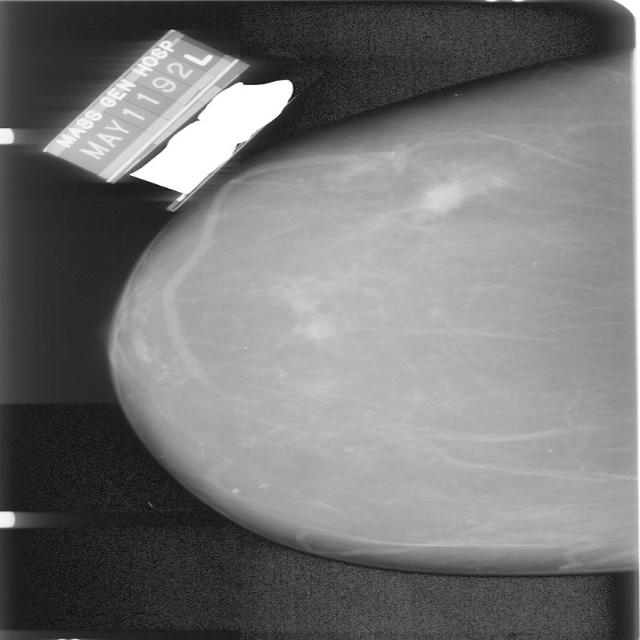tumour: (419, 179, 465, 215)
